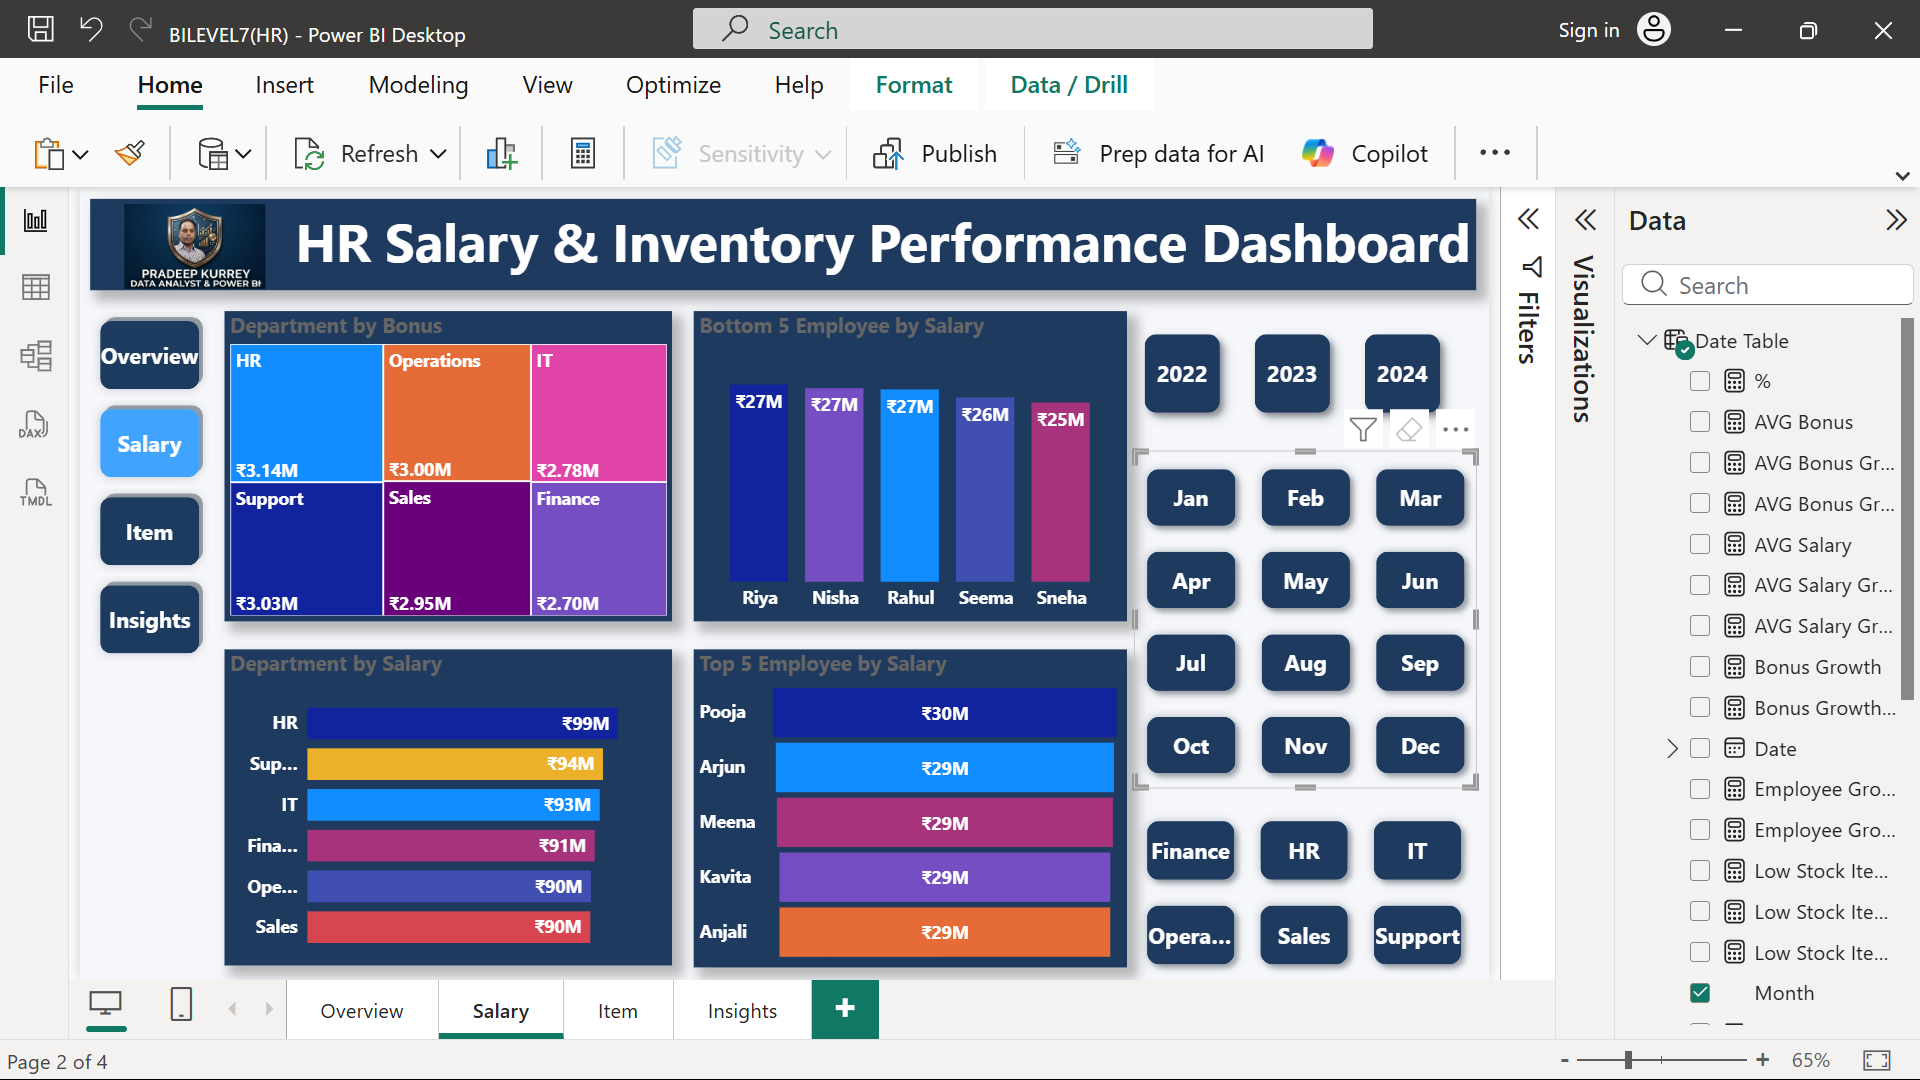

Layout of this report page (visuals, bound fields, positions):
{"tool":"powerbi","page":{"name":"Salary","canvas":[1280,720],"ordinal":1},"visuals":[{"type":"textbox","box":[9.2,11,1258.6,82.8],"z":0},{"type":"pageNavigator","box":[9.2,112.2,108.6,322],"z":1000},{"type":"advancedSlicerVisual","fields":{"Values":["Date Table.Year"]},"box":[951.3,112.2,301.8,108.6],"z":2000},{"type":"advancedSlicerVisual","fields":{"Values":["Date Table.Month"]},"box":[956.8,239.2,312.8,307.3],"z":3000},{"type":"advancedSlicerVisual","fields":{"Values":["Table1.Dept"]},"box":[956.8,559.4,311,160.1],"z":4000},{"type":"clusteredBarChart","title":"Department by Salary","fields":{"Y":["Date Table.Total Salary Expense"],"Category":["Table1.Dept"]},"box":[130.6,419.5,406.6,287],"z":5000},{"type":"image","box":[3.7,14.7,202.4,77.3],"z":6000},{"type":"funnel","title":"Top 5 Employee by Salary","fields":{"Category":["Table1.Name"],"Y":["Date Table.Total Salary Expense"]},"box":[557.5,419.5,393.8,288.9],"z":7000},{"type":"clusteredColumnChart","title":"Bottom 5 Employee by Salary","fields":{"Category":["Table1.Name"],"Y":["Date Table.Total Salary Expense"]},"box":[557.5,112.2,393.8,281.5],"z":8000},{"type":"treemap","title":"Department by Bonus","fields":{"Group":["Table1.Dept"],"Values":["Date Table.Total Bonus Paid"]},"box":[130.6,112.2,406.6,281.5],"z":9000}]}

Visuals, with their boxes on the page's 1280x720 design canvas (x1, y1, x2, y2). These are canvas units, not pixel positions in the 1920x1080 screenshot, which may show the page scaled, cropped or inside an application window:
textbox: <box>9,11,1268,94</box>
pageNavigator: <box>9,112,118,434</box>
advancedSlicerVisual - Date Table.Year: <box>951,112,1253,221</box>
advancedSlicerVisual - Date Table.Month: <box>957,239,1270,546</box>
advancedSlicerVisual - Table1.Dept: <box>957,559,1268,720</box>
"Department by Salary" clusteredBarChart: <box>131,420,537,706</box>
image: <box>4,15,206,92</box>
"Top 5 Employee by Salary" funnel: <box>558,420,951,708</box>
"Bottom 5 Employee by Salary" clusteredColumnChart: <box>558,112,951,394</box>
"Department by Bonus" treemap: <box>131,112,537,394</box>
